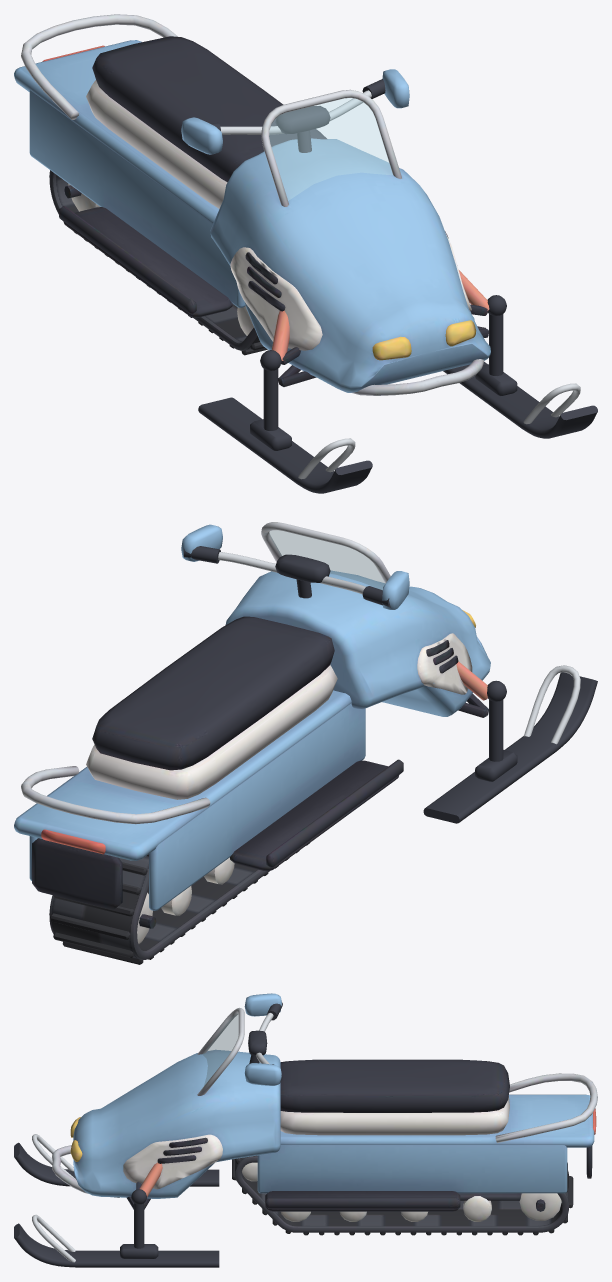
Rendered from moto_nieve.glb.
The picture shows the model from 3 angles, top to bottom: view 1: azimuth 30°, elevation 25°; view 2: azimuth 150°, elevation 25°; view 3: azimuth 270°, elevation 25°; orthographic projection. The views are drawn at different scales.
Parts seen in each view (by area): view 1: snowmobile_body; view 2: snowmobile_body; view 3: snowmobile_body.
Part boxes in pixels (x1,y1,x2,y2): snowmobile_body: [14, 14, 597, 493]; snowmobile_body: [14, 522, 597, 964]; snowmobile_body: [14, 993, 597, 1267].
Bounding box in the file's own units: 1.17 × 1.16 × 3.05.
13 materials, 2 textured.
